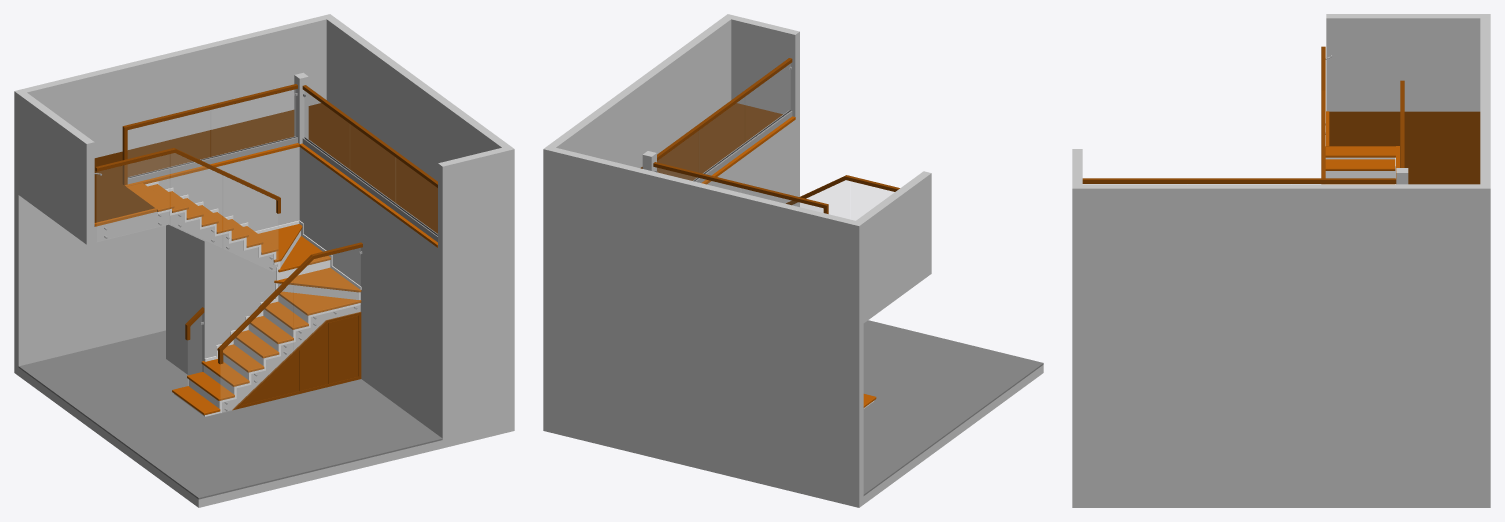
The model's file is Лестница.obj.
3 renders of one model, left to right at view 1: azimuth 30°, elevation 25°; view 2: azimuth 150°, elevation 25°; view 3: azimuth 270°, elevation 25°, orthographic. The views are drawn at different scales.
Size of the model in its own units: 5.91 by 5.04 by 5.98.
